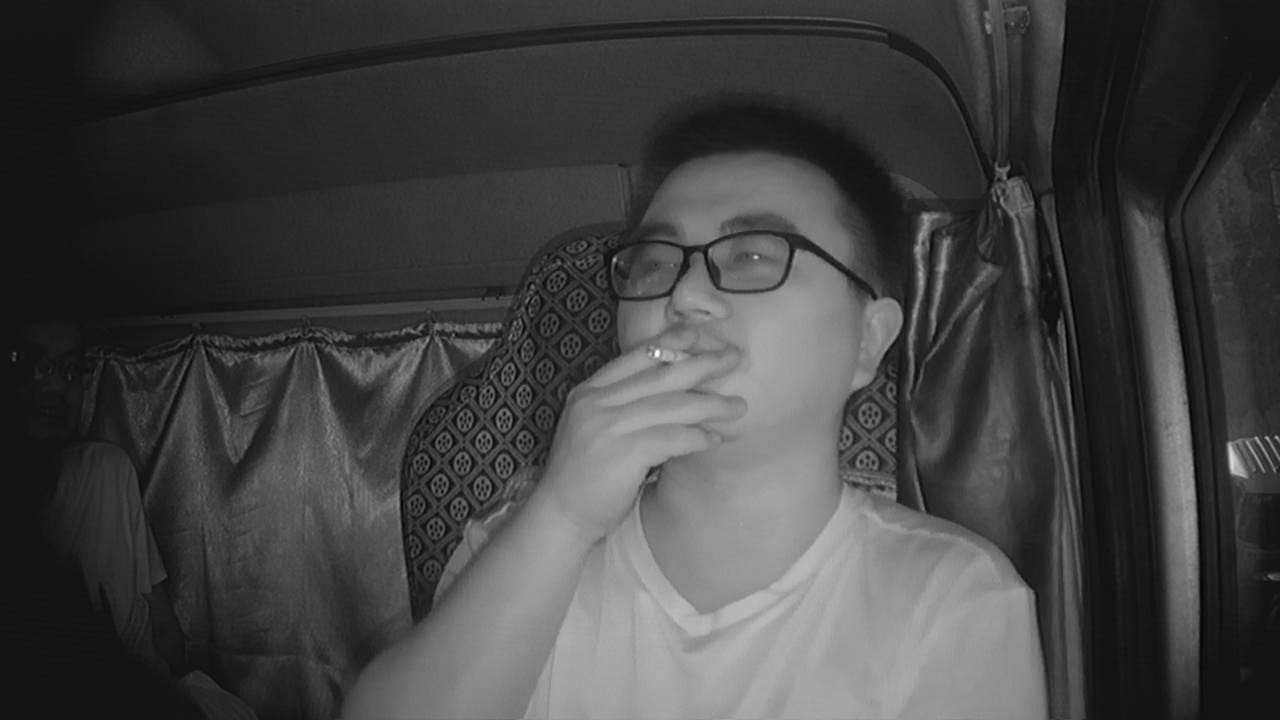hand: (607, 324, 743, 478)
